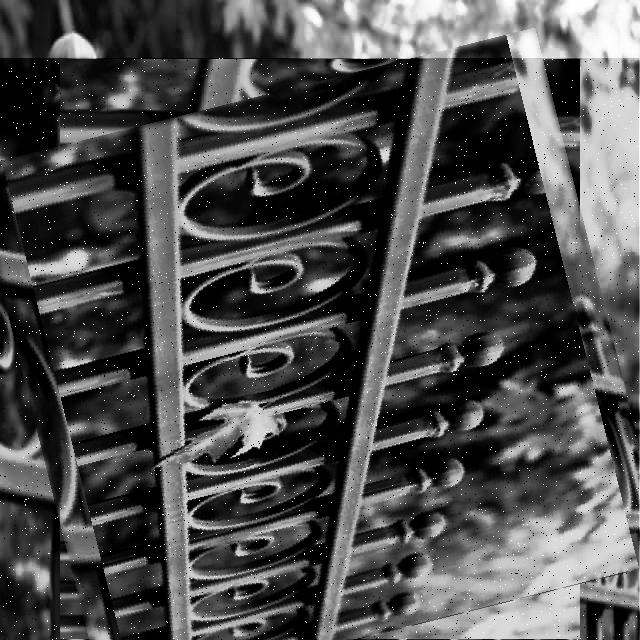fences: (0, 58, 639, 640)
